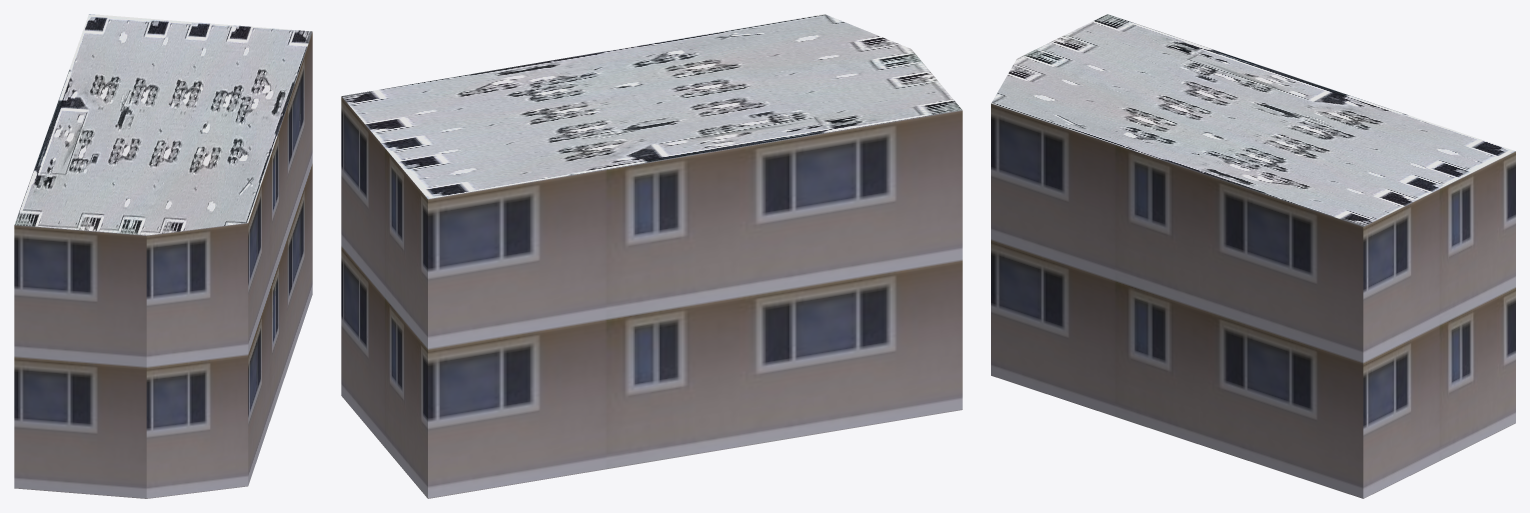
The model's file is ResTex__2147.fbx.
The picture shows the model from 3 angles, left to right: view 1: azimuth 30°, elevation 25°; view 2: azimuth 150°, elevation 25°; view 3: azimuth 270°, elevation 25°; orthographic projection. The views are drawn at different scales.
Parts seen in each view (by area): view 1: CityEngineMaterial_21_m, CityEngineMaterial_2_m; view 2: CityEngineMaterial_21_m, CityEngineMaterial_2_m; view 3: CityEngineMaterial_21_m, CityEngineMaterial_2_m.
Boxes of the visible parts, x1,y1,x2,y2 form: CityEngineMaterial_21_m: (14,32,312,498); CityEngineMaterial_2_m: (14,14,312,235); CityEngineMaterial_21_m: (341,96,962,498); CityEngineMaterial_2_m: (341,14,961,198); CityEngineMaterial_21_m: (991,103,1515,498); CityEngineMaterial_2_m: (991,14,1515,226).
Size of the model in its own units: 10.06 by 6 by 10.48.
2 materials, 2 textured.
